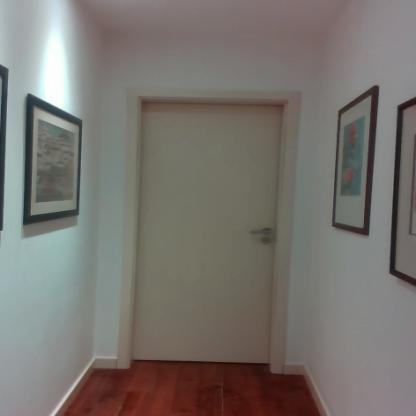door: (141, 103, 273, 363)
lever: (248, 228, 273, 236)
